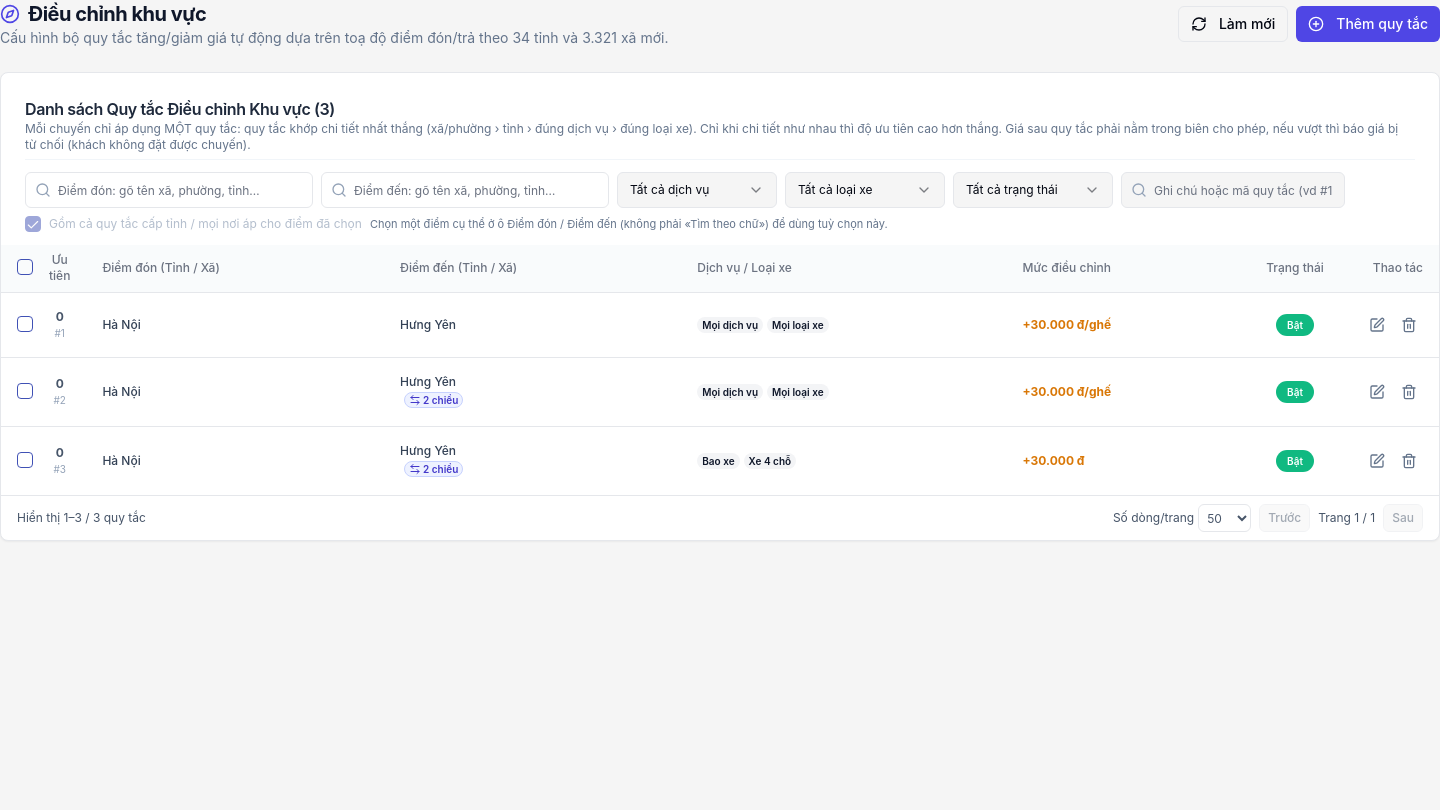
Test: PricingMacroManager — danh sách › hộp xác nhận xoá liệt kê "Đón → Trả" từng quy tắc đã chọn xuyên trang và báo dòng không ở trang đang xem (vẫn bị xoá)
Expected: the row with test id "rule-row-1" is shown, [1,292,1439,358]
Click the checkbox named "Chọn quy tắc #1 Hà Nội → Hưng Yên": (25, 324) [17,316,33,332]
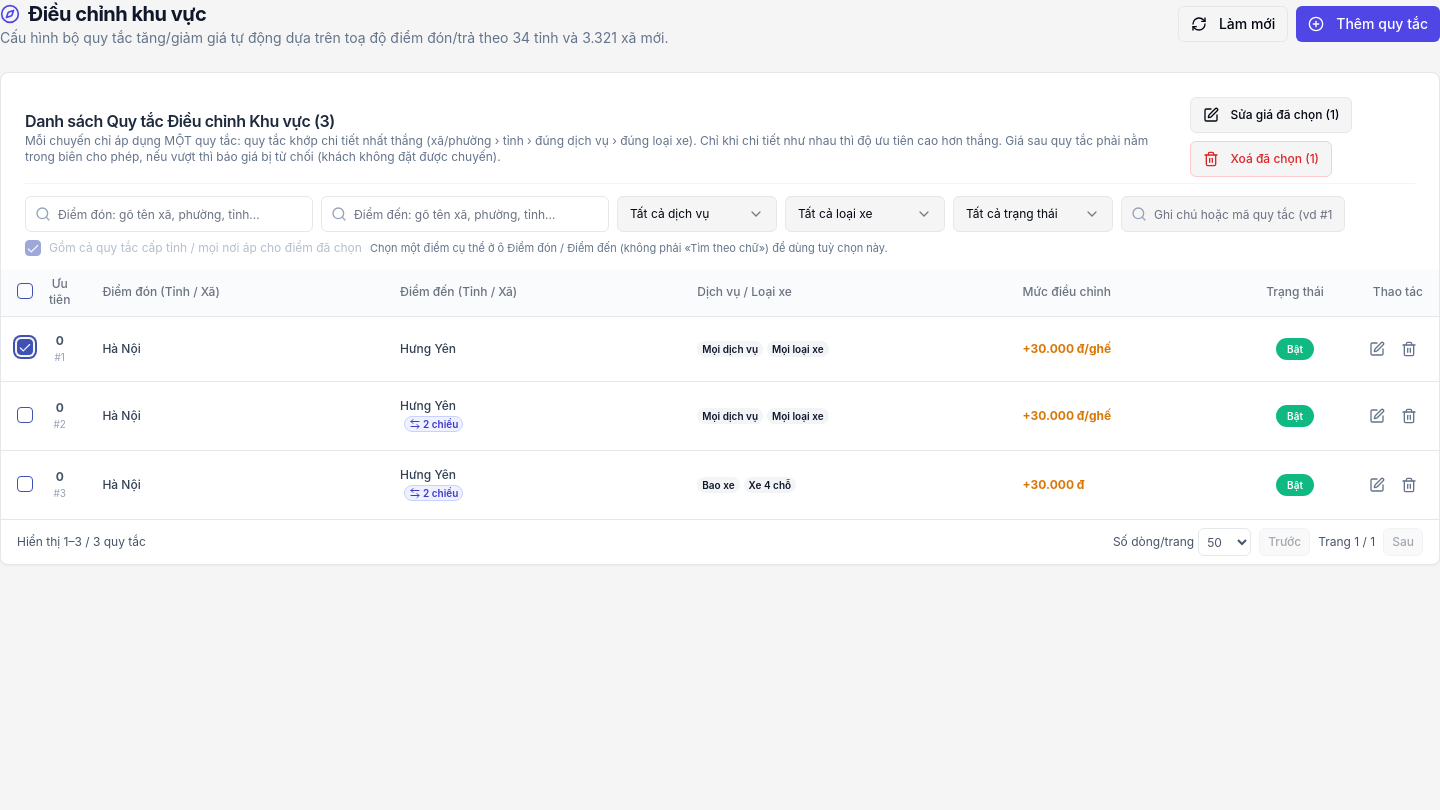
Click the checkbox named "Chọn quy tắc #2 Hà Nội ↔ Hưng Yên": (25, 414) [17,406,33,422]
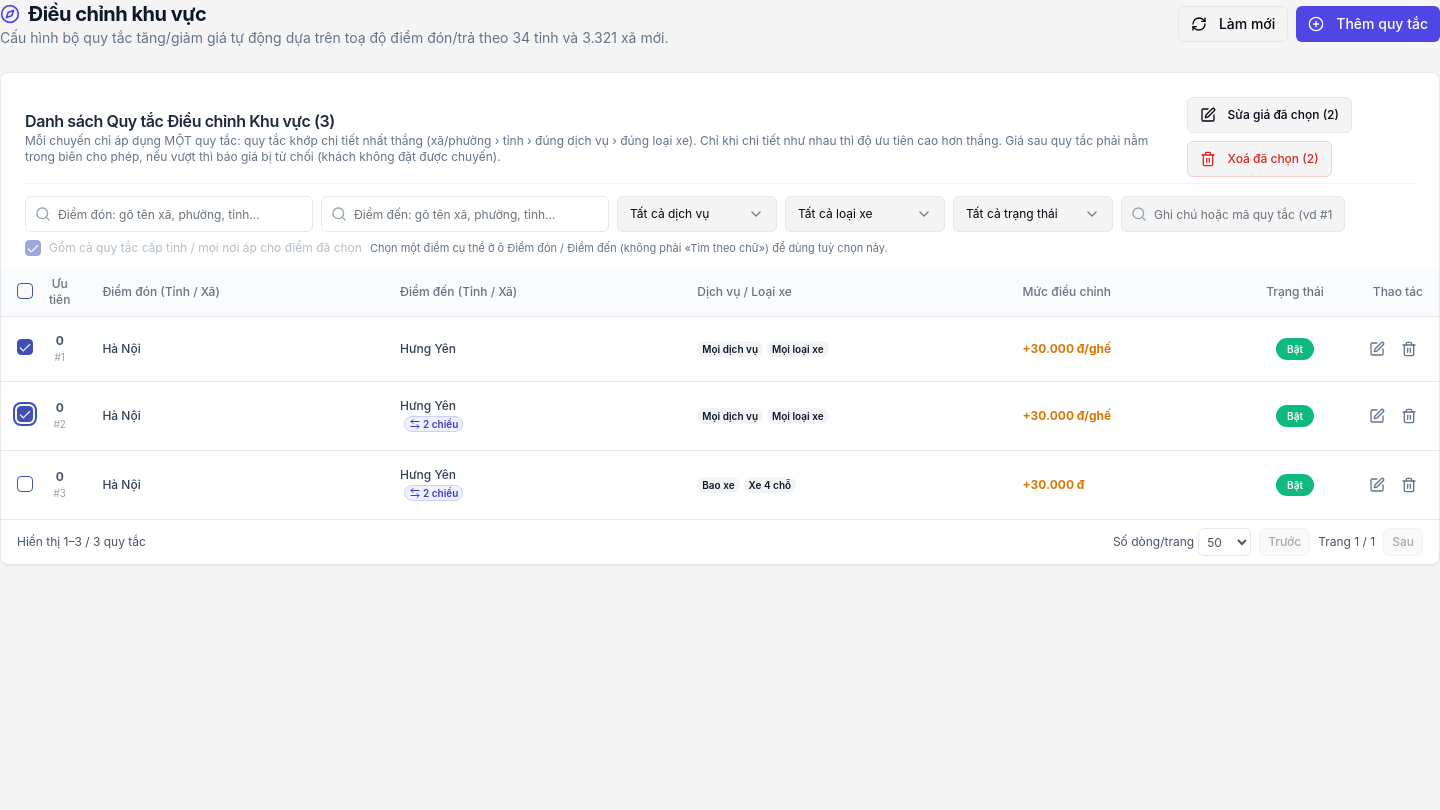
In the field labelled "Ghi chú hoặc mã quy tắc": (1233, 214) [1121,196,1345,232], type "api"
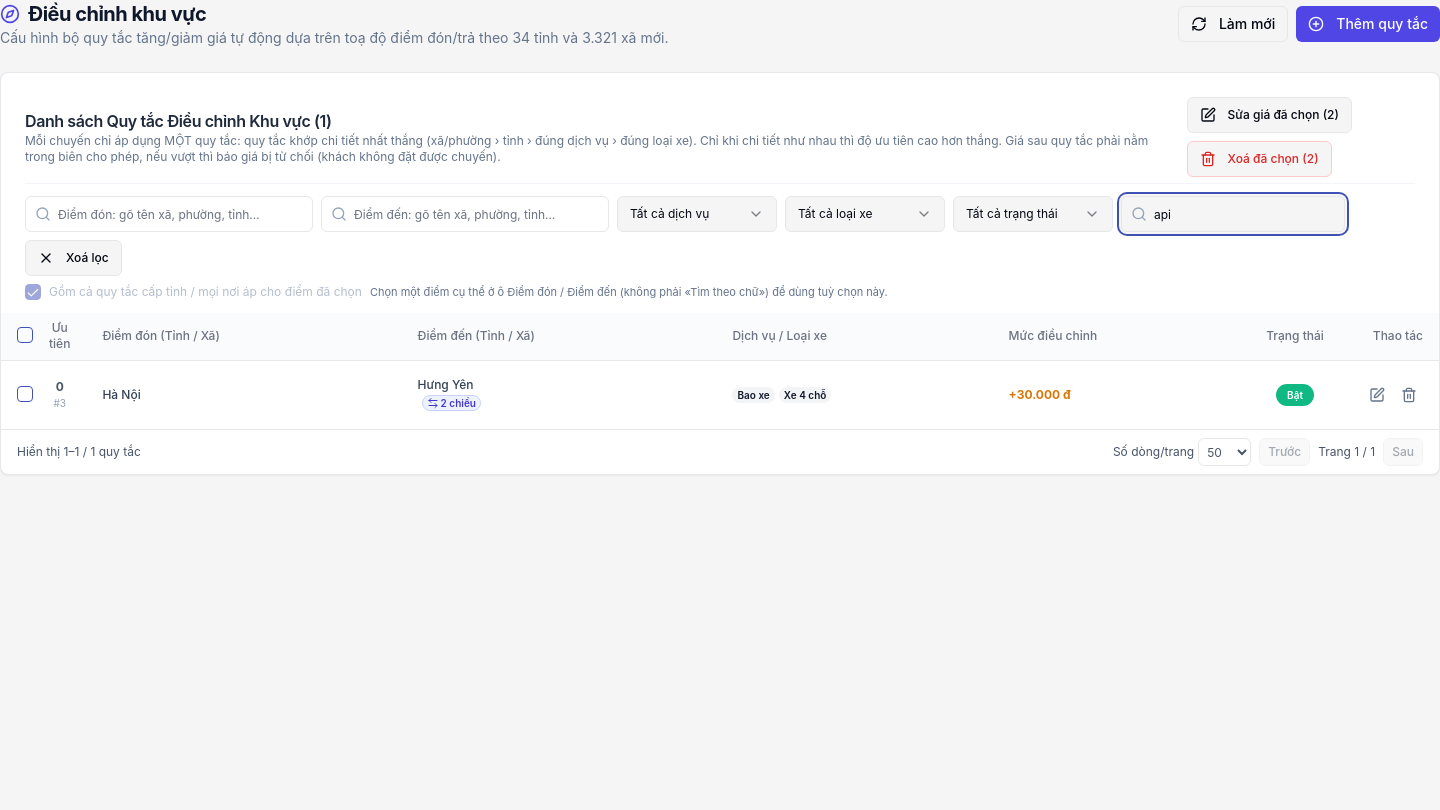
Expected: the row with test id "rule-row-3" is shown, [1,360,1439,429]
Expected: the row with test id "rule-row-1" is gone
Expected: the row with test id "rule-row-2" is gone
Click the checkbox named "Chọn quy tắc #3 Hà Nội ↔ Hưng Yên": (25, 394) [17,386,33,402]
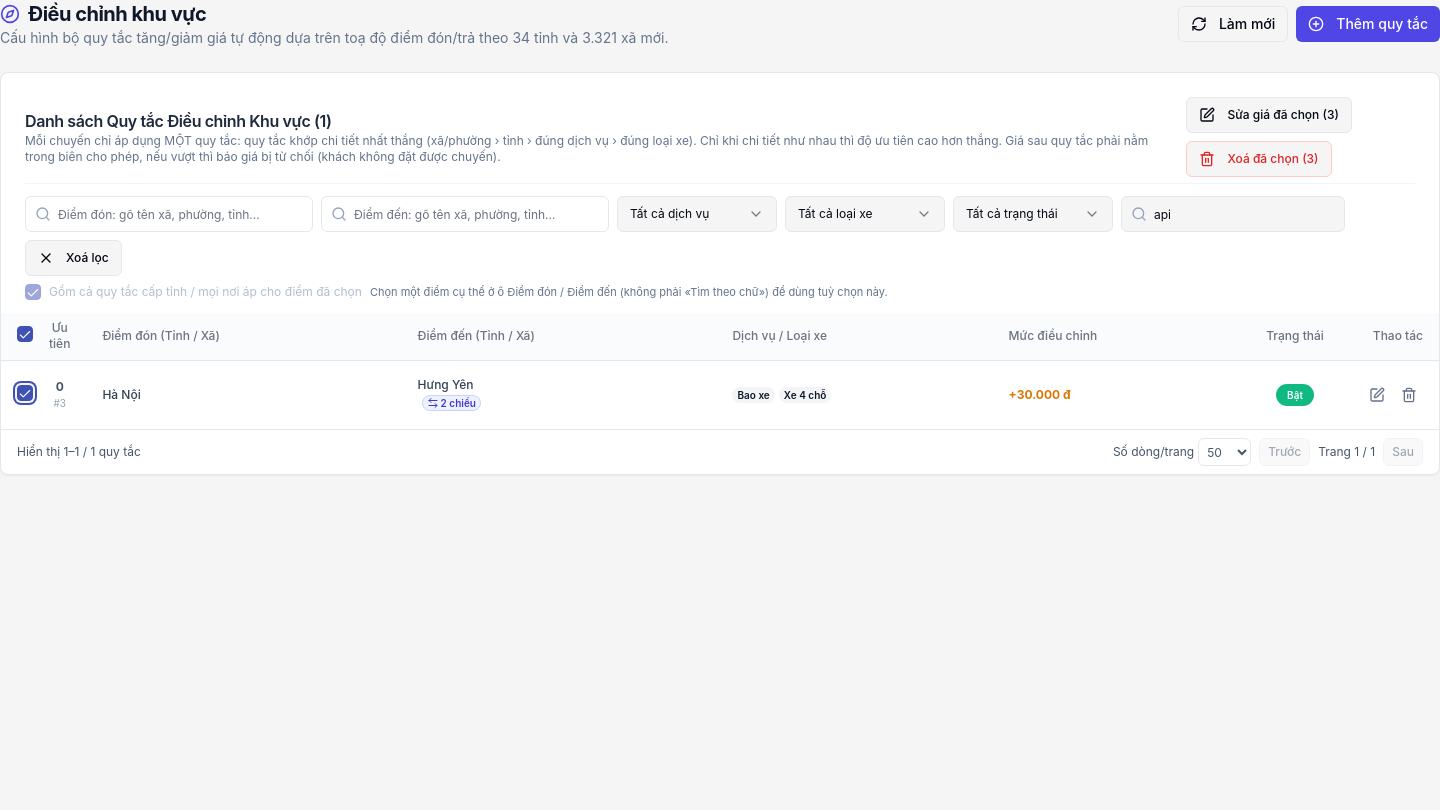
Expected: the button "Xoá đã chọn (3)" is shown
Click the button "Xoá đã chọn (3)": (1259, 159) [1186,141,1332,177]
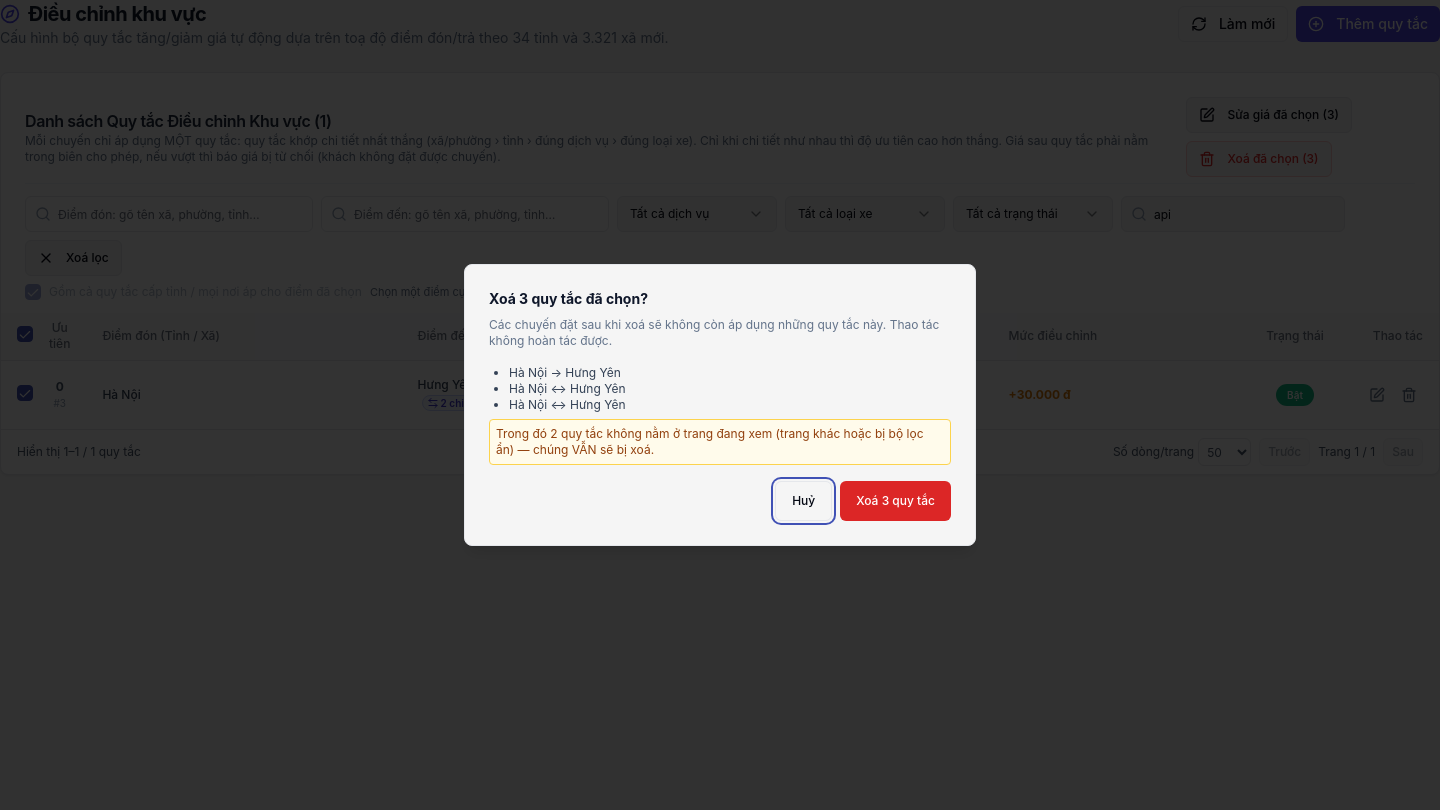
Expected: the number of list items is 3, [509,365,621,380]; [509,381,626,396]; [509,397,626,412]
Expected: the element with test id "bulk-delete-list" shows "Hà Nội → Hưng Yên", [509,365,621,380]
Expected: the element with test id "bulk-delete-list" shows "Hà Nội ↔ Hưng Yên", [509,381,626,396]
